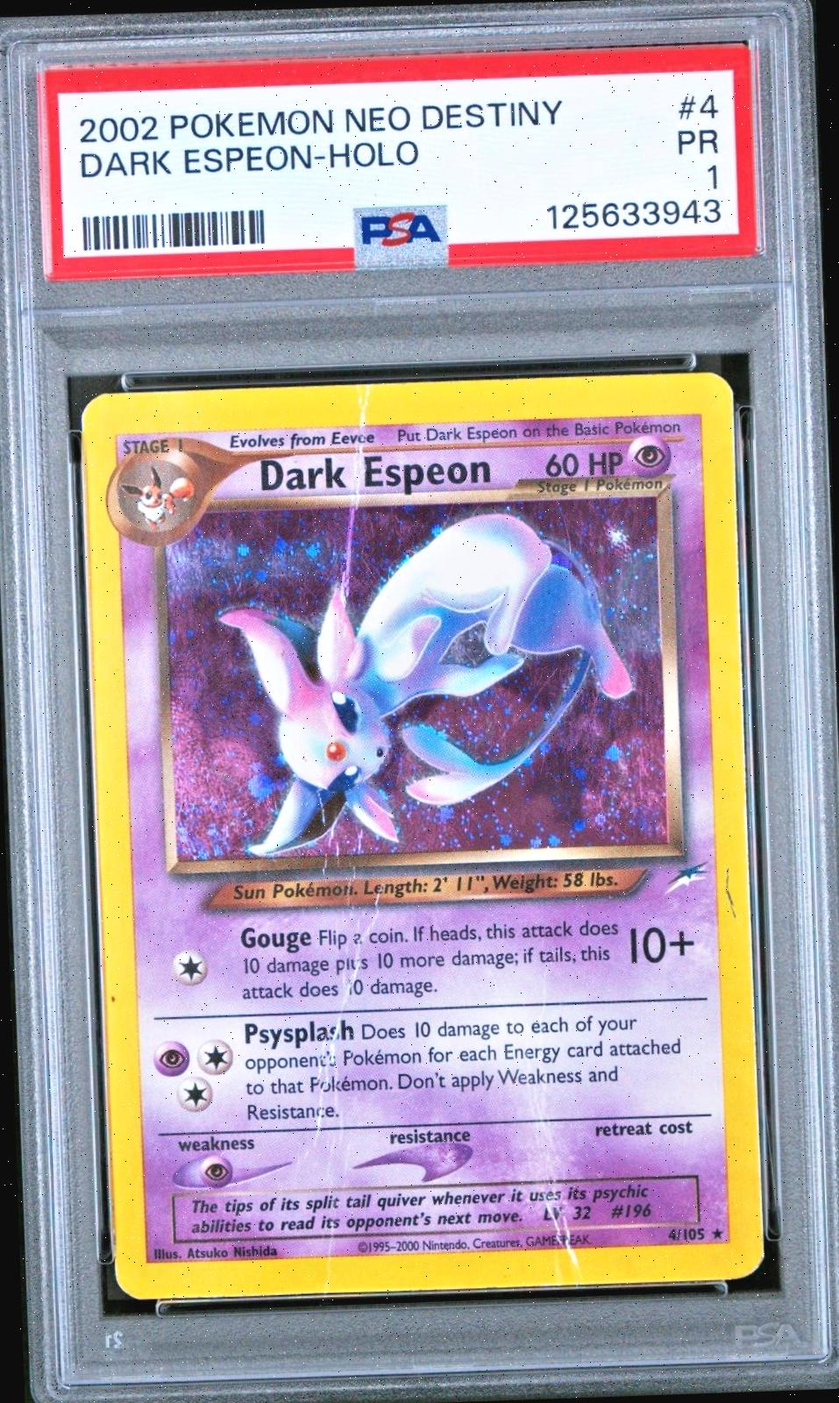card-2UtV: (80, 371, 765, 1300)
